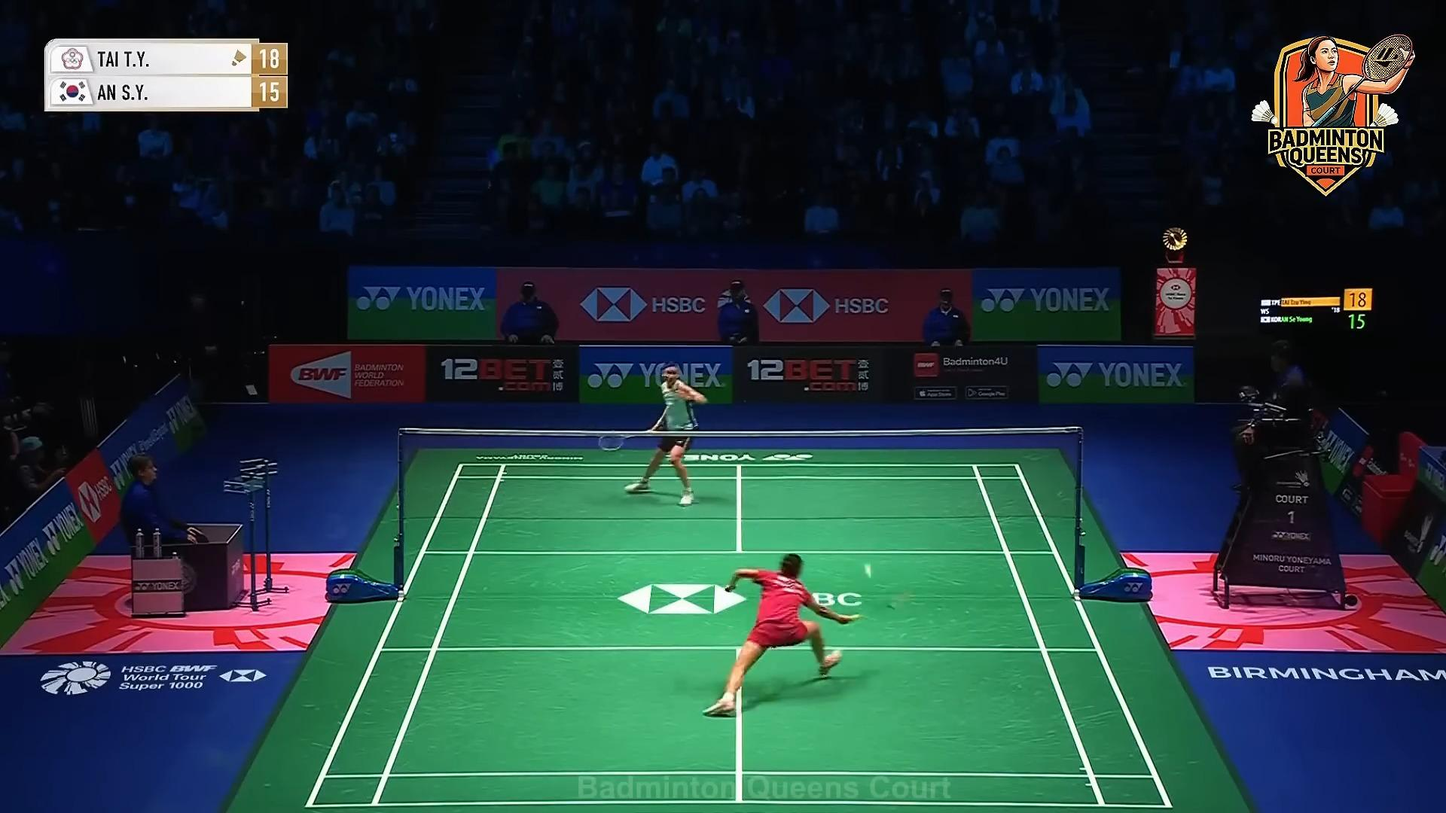shuttlecock: (863, 563, 873, 580)
